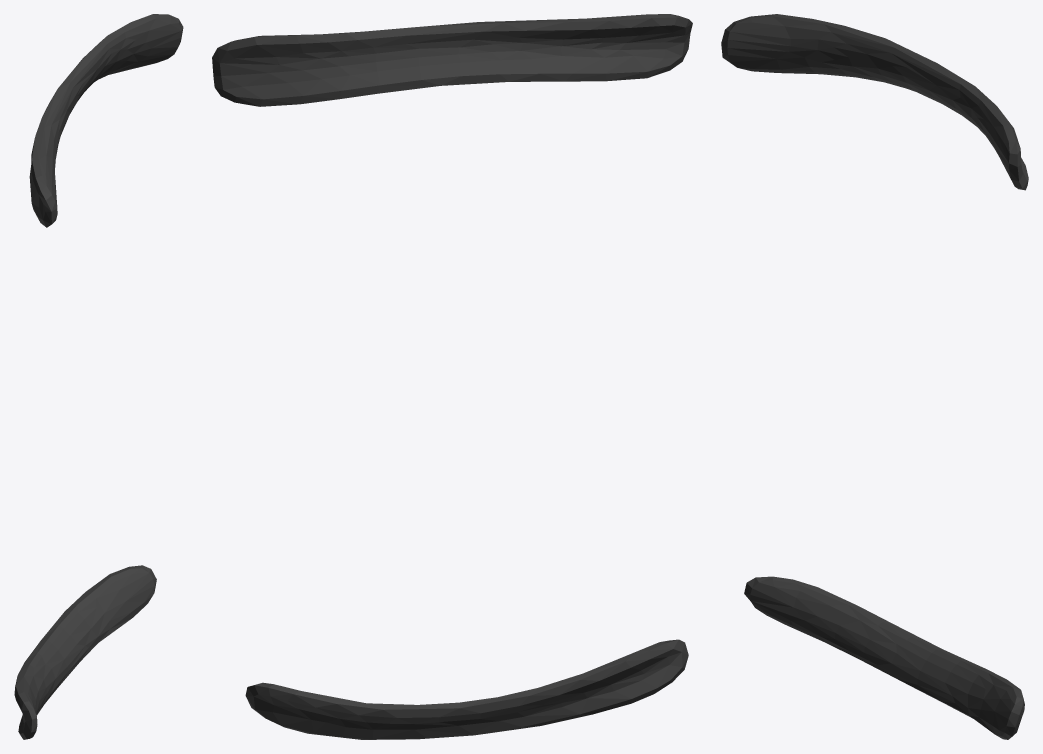
The model's file is Pelvis_greater_sciatic_notch.glb.
The picture shows the model from 3 angles, left to right: view 1: azimuth 30°, elevation 25°; view 2: azimuth 150°, elevation 25°; view 3: azimuth 270°, elevation 25°; orthographic projection. The views are drawn at different scales.
Visible parts, largest first — view 1: Pelvis_greater_sciatic_notch; view 2: Pelvis_greater_sciatic_notch; view 3: Pelvis_greater_sciatic_notch.
Boxes of the visible parts, <box> form: Pelvis_greater_sciatic_notch: <box>14,14,183,739</box>; Pelvis_greater_sciatic_notch: <box>212,14,692,739</box>; Pelvis_greater_sciatic_notch: <box>721,14,1028,739</box>.
Size of the model in its own units: 1.42 by 2.93 by 1.27.
Materials: 1 (1 with a texture image).
